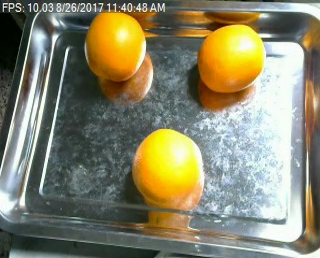Orange: (133, 127, 203, 203), (197, 23, 265, 91), (84, 10, 147, 82)
